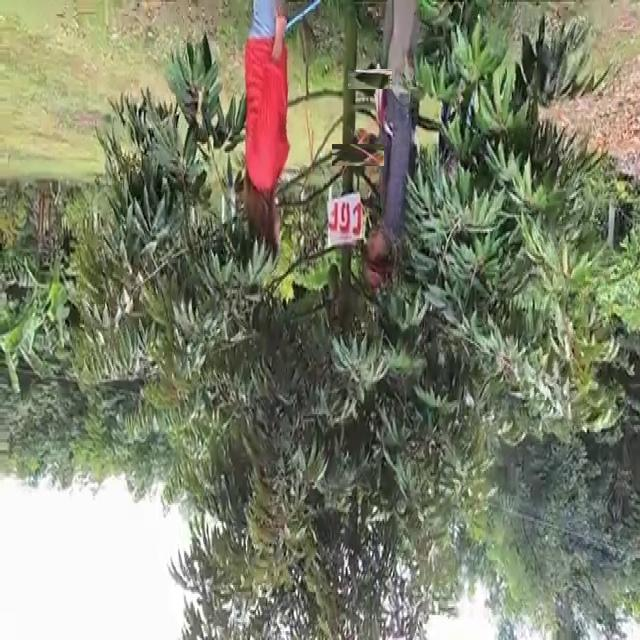durian: (340, 136, 377, 174), (296, 14, 321, 67), (324, 259, 343, 315), (354, 62, 386, 95)
